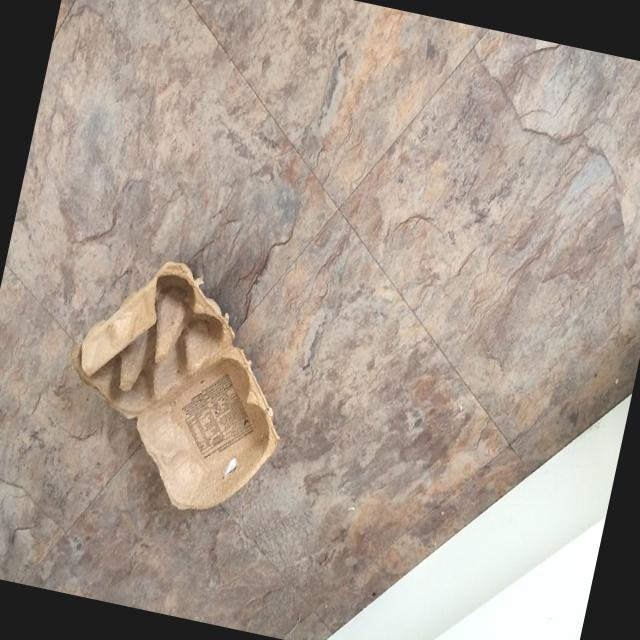Trash: (42, 243, 312, 526)
